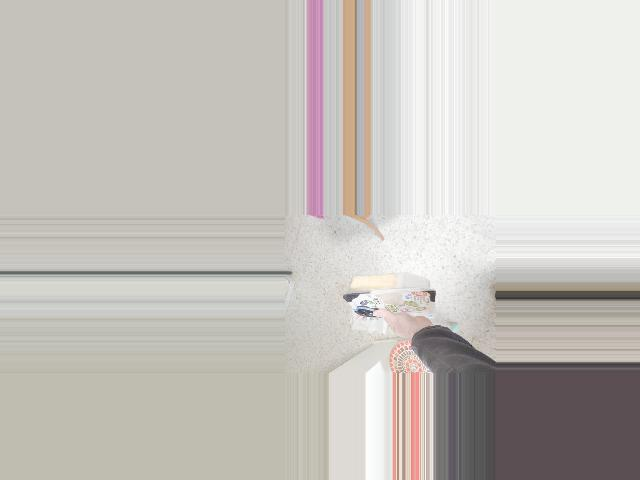cheese: (339, 249, 446, 340)
